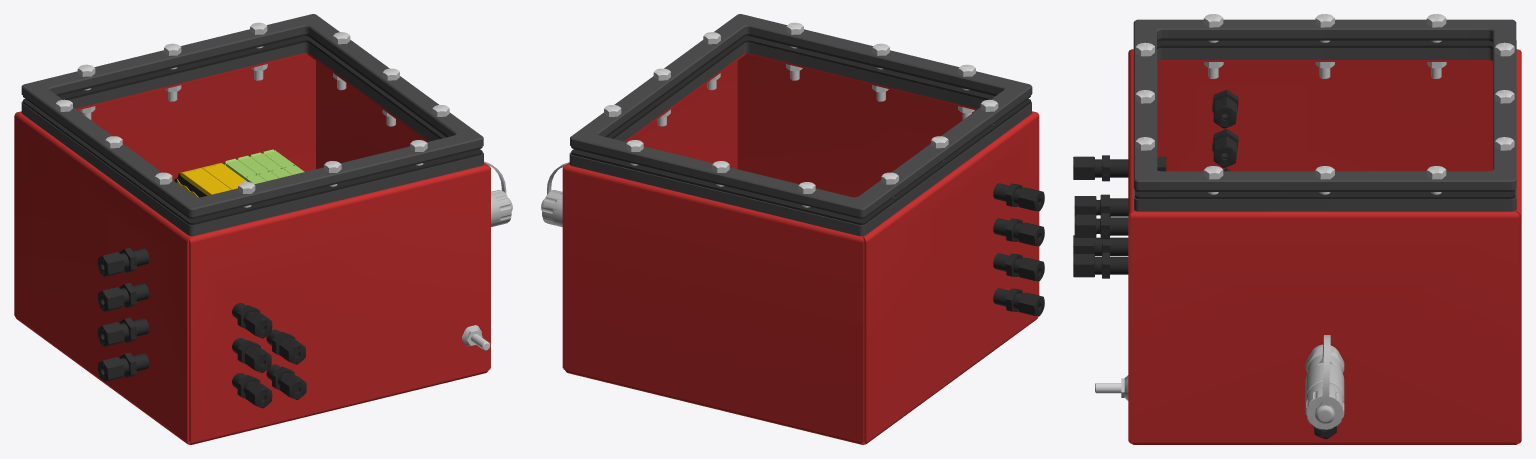
3 views of the same model, side by side, from view 1: azimuth 30°, elevation 25°; view 2: azimuth 150°, elevation 25°; view 3: azimuth 270°, elevation 25° (orthographic). The views are drawn at different scales.
Visible parts, largest first — view 1: BLECH-EXBOX, GLASDECKEL-OBERFLANSCH, GLASDECKEL-UNTERFLANSCH, DICHTUNGSRING, DICHTUNGSRING.001, SCHOTTVERSCHRAUBUNG.008, SCHOTTVERSCHRAUBUNG.007, SCHOTTVERSCHRAUBUNG.005, SCHOTTVERSCHRAUBUNG.006, SCHOTTVERSCHRAUBUNG, SCHOTTVERSCHRAUBUNG.003, SCHOTTVERSCHRAUBUNG.004 (+5 smaller); view 2: BLECH-EXBOX, GLASDECKEL-OBERFLANSCH, GLASDECKEL-UNTERFLANSCH, DICHTUNGSRING, DICHTUNGSRING.001, SCHOTTVERSCHRAUBUNG.007, SCHOTTVERSCHRAUBUNG.005, SCHOTTVERSCHRAUBUNG.006, SCHOTTVERSCHRAUBUNG.008, INSTRUMENTENSTECKER; view 3: BLECH-EXBOX, GLASDECKEL-OBERFLANSCH, GLASDECKEL-UNTERFLANSCH, DICHTUNGSRING, INSTRUMENTENSTECKER, DICHTUNGSRING.001, SCHOTTVERSCHRAUBUNG, SCHOTTVERSCHRAUBUNG.004, SCHOTTVERSCHRAUBUNG.001, SCHOTTVERSCHRAUBUNG.002, SCHOTTVERSCHRAUBUNG.003, SCHOTTVERSCHRAUBUNG.008 (+1 smaller).
Boxes of the visible parts, x1,y1,x2,y2 form: BLECH-EXBOX: (14,53,490,444); GLASDECKEL-OBERFLANSCH: (21,14,483,217); GLASDECKEL-UNTERFLANSCH: (21,42,483,236); DICHTUNGSRING: (23,36,482,225); DICHTUNGSRING.001: (23,34,482,218); SCHOTTVERSCHRAUBUNG.008: (97,247,149,276); SCHOTTVERSCHRAUBUNG.007: (97,282,149,311); SCHOTTVERSCHRAUBUNG.005: (97,352,149,381); SCHOTTVERSCHRAUBUNG.006: (97,317,149,346); SCHOTTVERSCHRAUBUNG: (232,303,272,338); SCHOTTVERSCHRAUBUNG.003: (232,373,272,408); SCHOTTVERSCHRAUBUNG.004: (266,364,306,399); BLECH-EXBOX: (562,53,1039,444); GLASDECKEL-OBERFLANSCH: (570,14,1032,217); GLASDECKEL-UNTERFLANSCH: (569,42,1031,236); DICHTUNGSRING: (571,36,1030,225); DICHTUNGSRING.001: (571,34,1030,218); SCHOTTVERSCHRAUBUNG.007: (993,218,1044,246); SCHOTTVERSCHRAUBUNG.005: (993,288,1044,316); SCHOTTVERSCHRAUBUNG.006: (993,253,1044,281); SCHOTTVERSCHRAUBUNG.008: (993,183,1044,211); INSTRUMENTENSTECKER: (541,162,569,227); BLECH-EXBOX: (1128,49,1521,444); GLASDECKEL-OBERFLANSCH: (1133,19,1516,189); GLASDECKEL-UNTERFLANSCH: (1134,40,1516,211); DICHTUNGSRING: (1135,40,1515,199); INSTRUMENTENSTECKER: (1305,335,1344,429); DICHTUNGSRING.001: (1135,38,1515,191); SCHOTTVERSCHRAUBUNG: (1073,155,1166,181); SCHOTTVERSCHRAUBUNG.004: (1073,252,1128,278); SCHOTTVERSCHRAUBUNG.001: (1074,213,1128,239); SCHOTTVERSCHRAUBUNG.002: (1074,194,1128,216); SCHOTTVERSCHRAUBUNG.003: (1073,235,1128,255); SCHOTTVERSCHRAUBUNG.008: (1212,89,1238,128).
Bounding box in the file's own units: 0.4458 × 0.2272 × 0.342.
